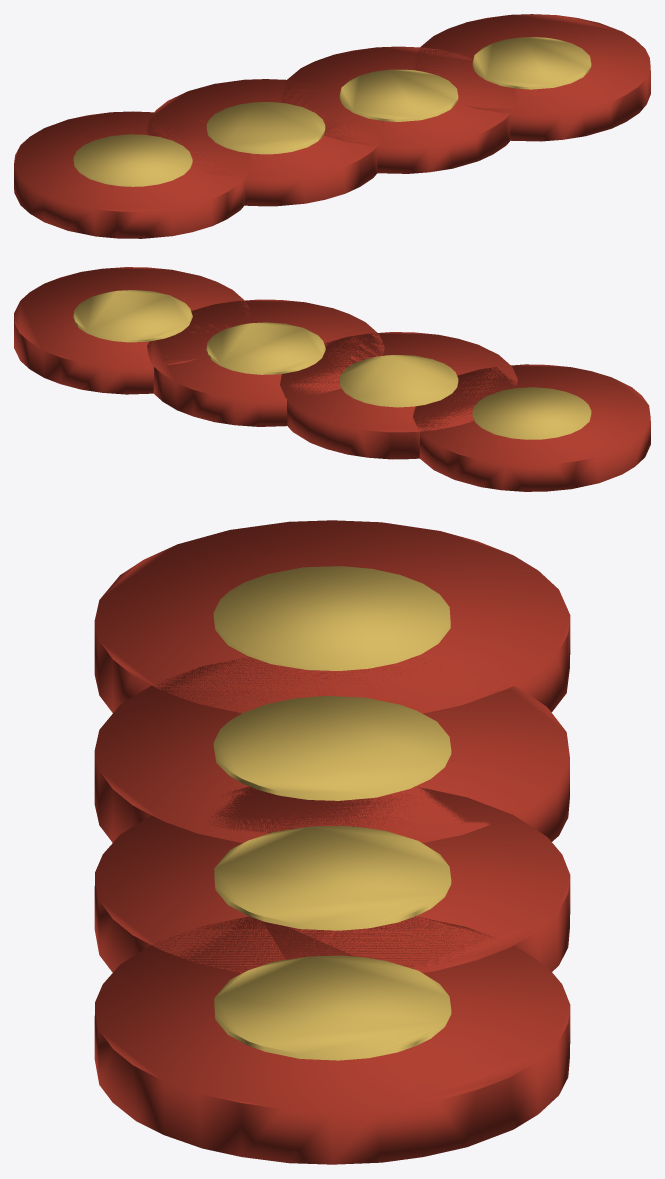
Rendered from ot_lat.glb.
The picture shows the model from 3 angles, top to bottom: view 1: azimuth 30°, elevation 25°; view 2: azimuth 150°, elevation 25°; view 3: azimuth 270°, elevation 25°; orthographic projection. The views are drawn at different scales.
Parts seen in each view (by area): view 1: ot_lat; view 2: ot_lat; view 3: ot_lat.
Part boxes in pixels (<box>): ot_lat: <box>14,14,650,238</box>; ot_lat: <box>14,267,650,491</box>; ot_lat: <box>94,520,570,1164</box>.
Size of the model in its own units: 0.0705 by 0.0035 by 0.024.
